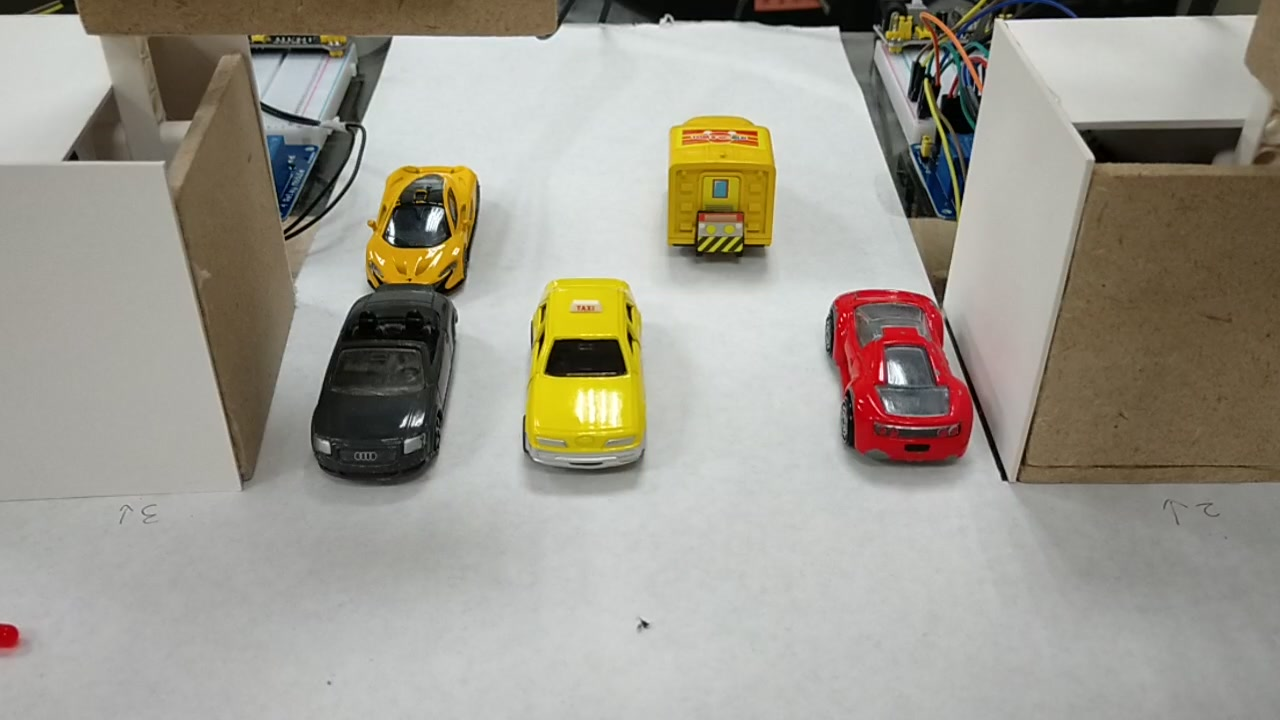car: (821, 284, 975, 467), (309, 284, 452, 479), (527, 275, 650, 470), (368, 161, 478, 292)
